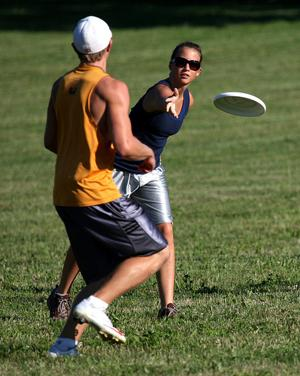person: (49, 41, 204, 321)
